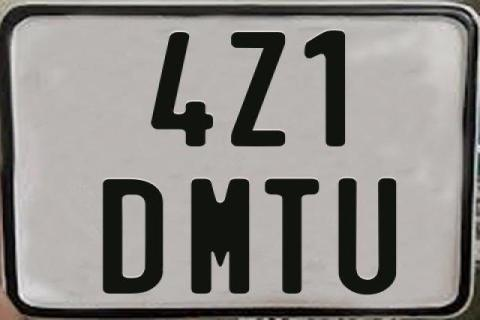0: (150, 31, 213, 149), (302, 30, 343, 146)
D: (100, 178, 160, 294)
M: (191, 177, 252, 297)
T: (264, 179, 324, 295)
U: (338, 177, 397, 297)
Z: (230, 30, 284, 146)
